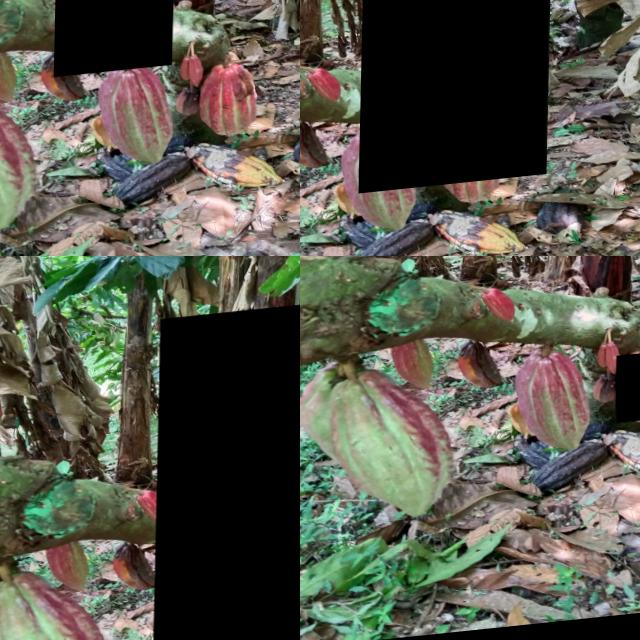Fitoftora: (360, 0, 554, 199), (300, 0, 374, 154), (527, 450, 608, 500), (459, 343, 504, 397), (617, 359, 640, 431), (573, 62, 585, 83)
Monilia: (55, 0, 176, 81), (604, 432, 640, 489)
Sana: (154, 303, 300, 640), (332, 367, 455, 527), (516, 351, 594, 463), (305, 365, 348, 458), (388, 340, 438, 396), (481, 290, 518, 332), (604, 349, 623, 383), (598, 352, 612, 375), (559, 58, 574, 79)
